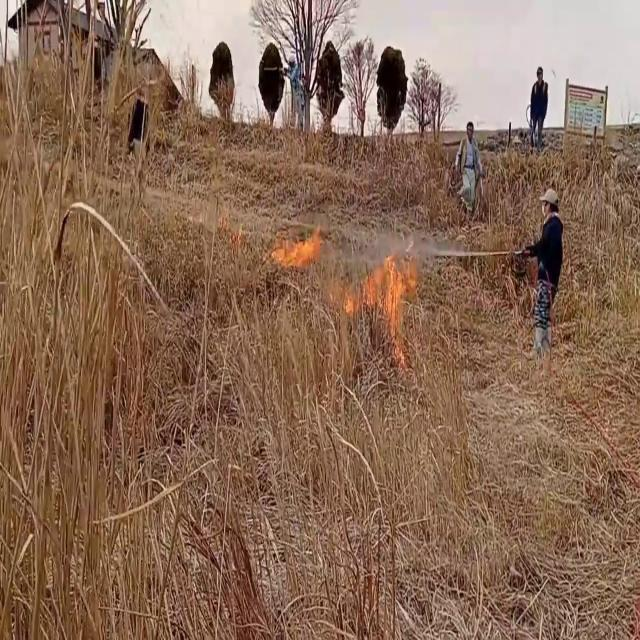Fire: (358, 241, 416, 353), (268, 216, 326, 276)
